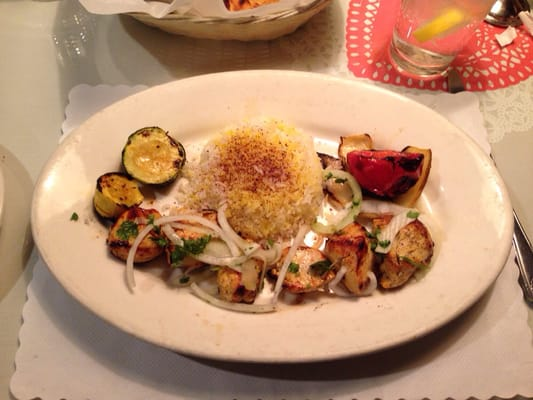pizza: (388, 0, 498, 79)
sushi: (77, 0, 335, 42)
